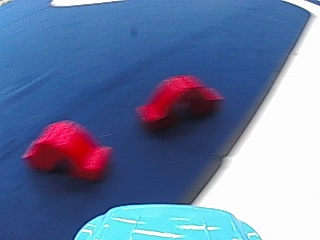bridge: (19, 114, 117, 182), (130, 69, 228, 134)
